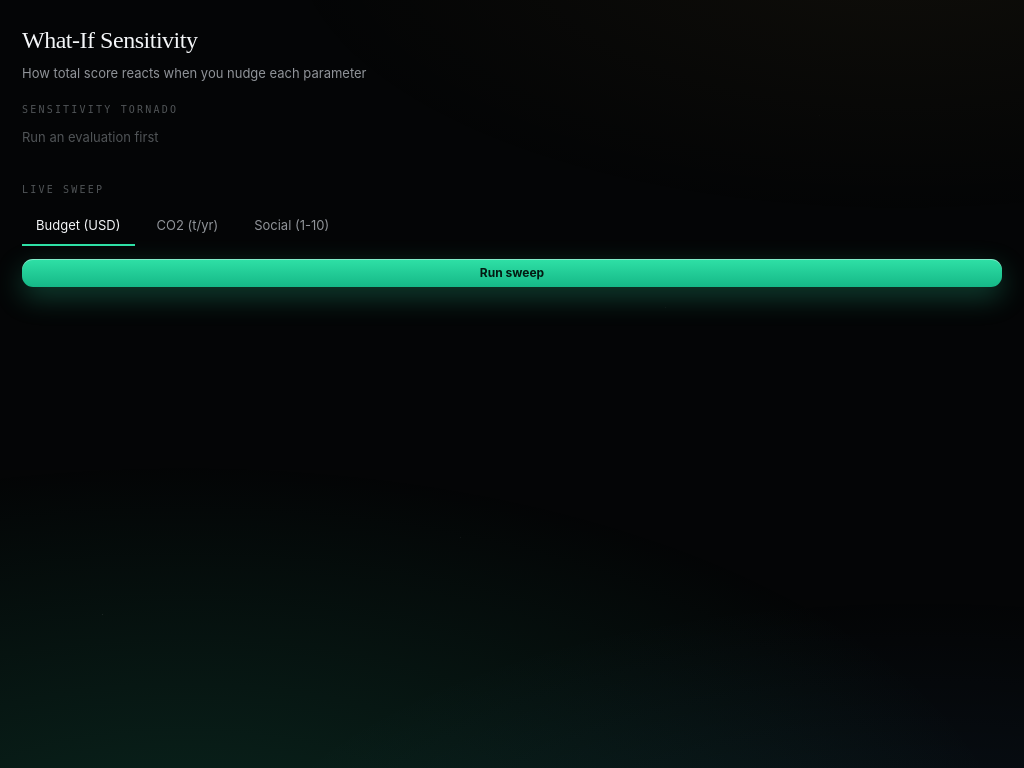
Test: a sweep that is not interrupted › still sends all twelve points with the Bearer and draws them
# Control: the guards must not stop a sweep that nothing interrupted.
Click the button "Run sweep".
click(512, 273)  # box [22,259,1002,287]
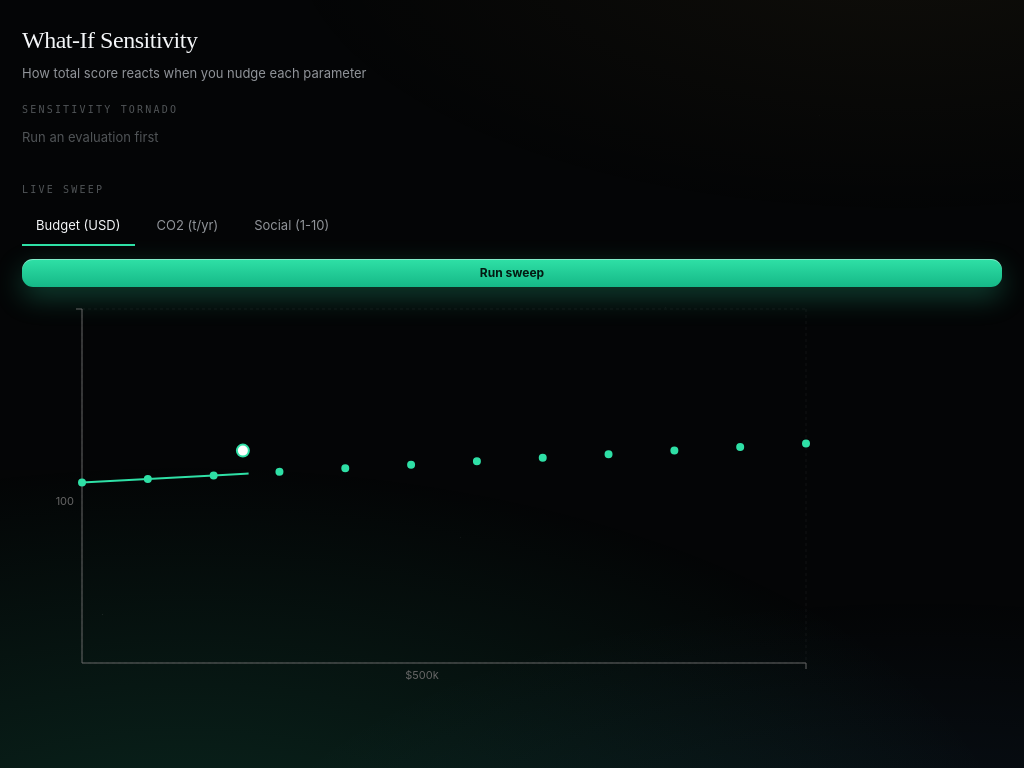
Expected: the element with class "recharts-responsive-container" is shown, [22,301,822,701]
